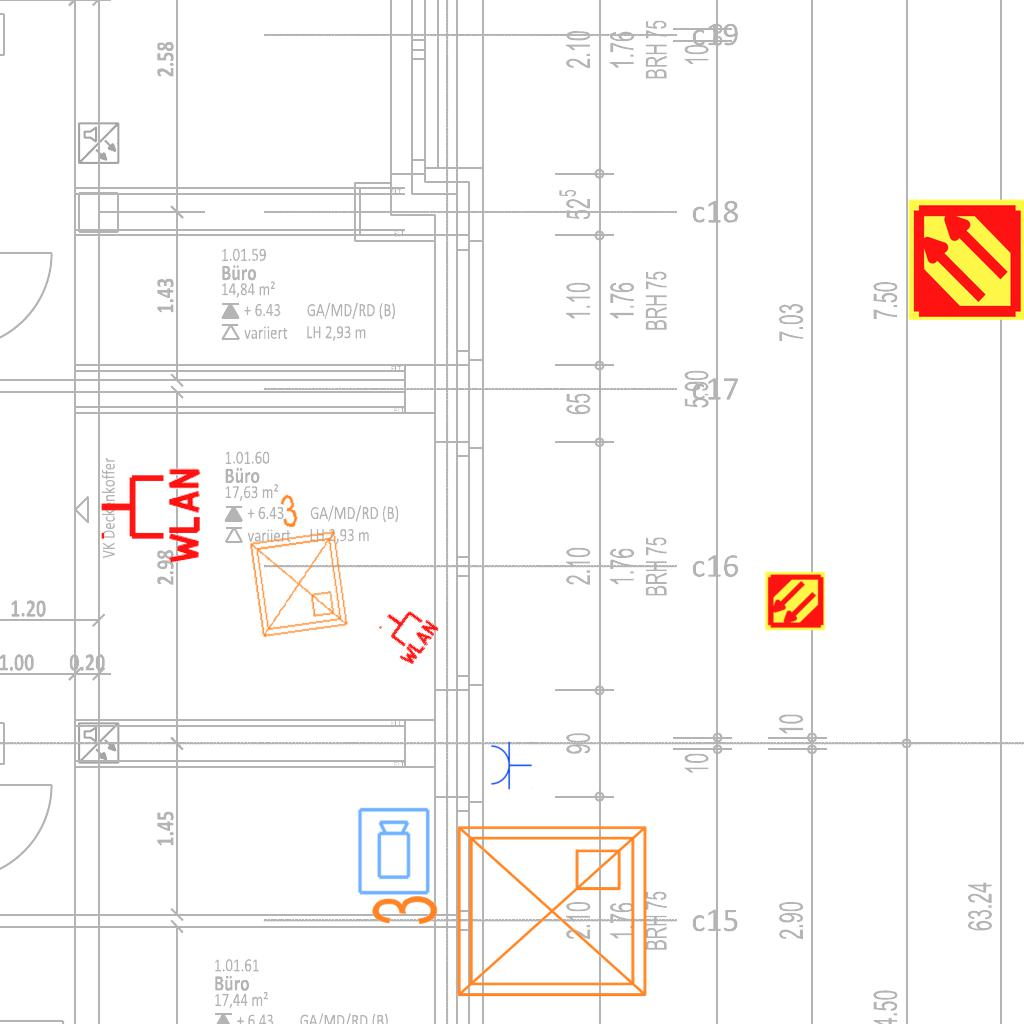ASR_Ansaugrauchmelder: (905, 197, 1024, 322), (764, 570, 826, 632)
Einbaudownlights_LED_Konferenzraeume: (361, 811, 661, 1019), (232, 482, 356, 646)
KFO_Kamera_mit_Festobjektiv: (356, 806, 433, 897)
Schukosteckdose_einfach: (489, 740, 532, 790)
WLAN: (97, 464, 202, 568), (368, 596, 442, 670)
